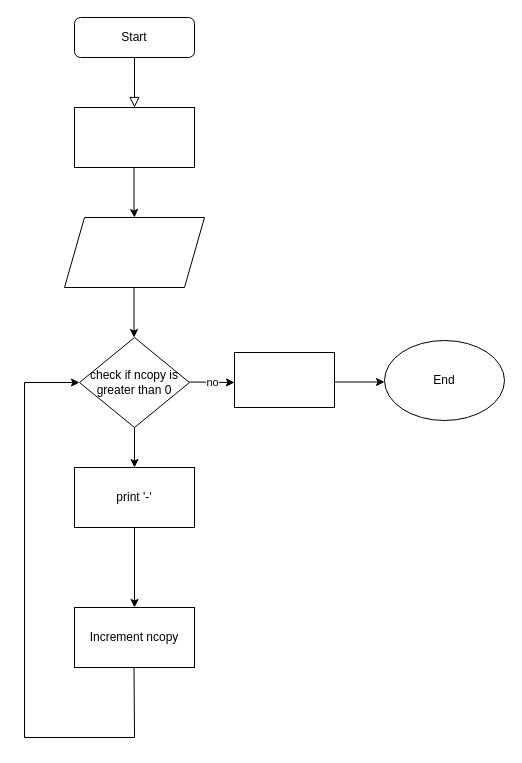
The diagram is 522 pixels wide and 763 high, and some of its shapes have lost their labels. Here are the shapes that lost their labels. From the top down, the box of each, then its label:
(74, 106, 194, 168): create a memory location for ncopy
(64, 216, 204, 288): Assign a variable n to ncopy l
(234, 352, 334, 408): return \n
